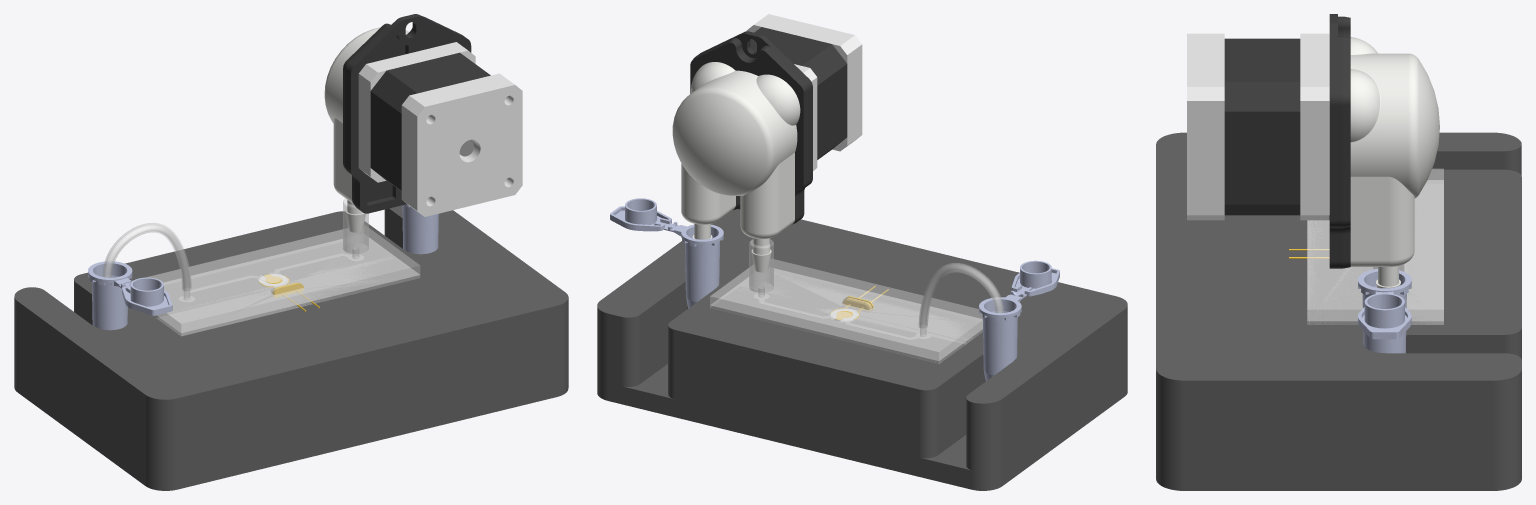
Rendered from Assembly 1 (4).dae.
3 views of the same model, side by side, from view 1: azimuth 30°, elevation 25°; view 2: azimuth 150°, elevation 25°; view 3: azimuth 270°, elevation 25° (orthographic). The views are drawn at different scales.
Parts seen in each view (by area): view 1: table, top, nema14_base, bottom, Motor Mount, nema14_centro, Part 1 (×2), nema14_techo, Housing, output tube, water; view 2: table, Housing, top, Part 1 (×2), bottom, Motor Mount, nema14_centro, nema14_base, output tube, water, nema14_techo; view 3: table, Housing, nema14_centro, top, bottom, nema14_base, nema14_techo, Motor Mount, Part 1, Component6.
Part boxes in pixels (x1,y1,x2,y2): table: (14,205,568,490); top: (132,199,420,332); nema14_base: (401,73,522,216); bottom: (154,238,420,336); Motor Mount: (343,14,471,213); nema14_centro: (370,52,490,191); Part 1 (×2): (88,204,438,330); nema14_techo: (358,42,475,182); Housing: (324,27,408,203); output tube: (102,222,191,291); water: (179,254,363,302); table: (597,209,1127,490); Housing: (672,62,800,239); top: (710,239,982,360); Part 1 (×2): (610,198,1059,381); bottom: (710,268,982,363); Motor Mount: (690,31,812,224); nema14_centro: (750,27,847,159); nema14_base: (746,14,862,151); output tube: (918,263,1004,328); water: (754,293,930,339); nema14_techo: (794,64,817,170); table: (1156,132,1521,490); Housing: (1350,37,1439,266); nema14_centro: (1224,38,1300,215); top: (1307,168,1443,321); bottom: (1307,180,1443,324); nema14_base: (1187,33,1224,220); nema14_techo: (1300,33,1329,220); Motor Mount: (1329,14,1350,268); Part 1: (1358,268,1411,353); Component6: (1376,266,1400,288).
Size of the model in its own units: 0.1496 by 0.0871 by 0.1094.
